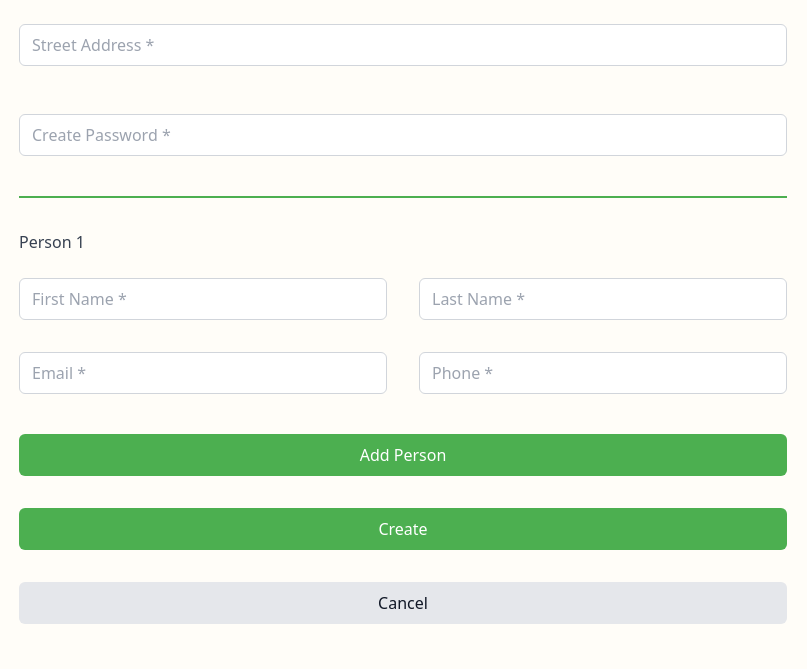
Scenario: SignUpForm › shows validation for invalid email
In the field named "Street Address*": [403, 45] box [19,24,787,66], type "123 Main St"
In the password field named "Create Password*": [403, 135] box [19,114,787,156], type "abc123"
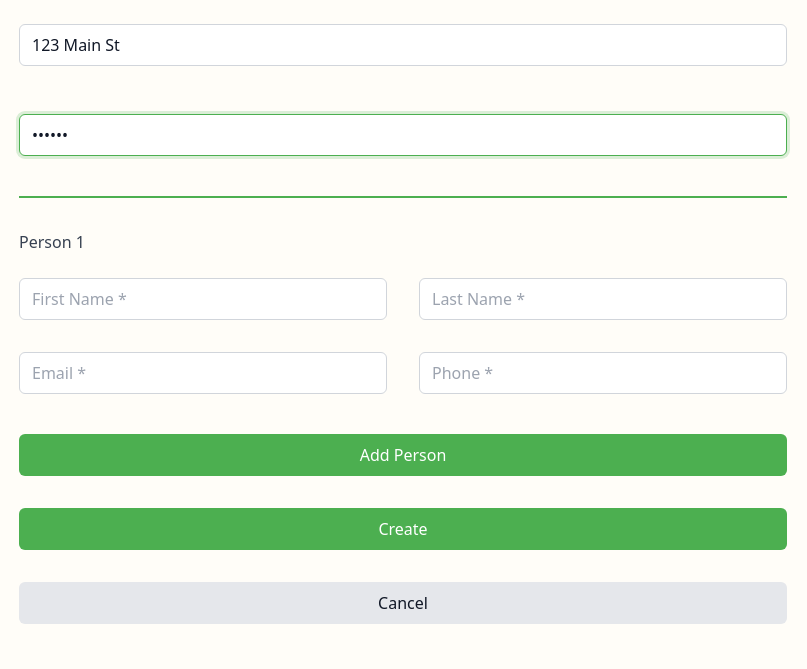
In the field named "First Name*": [203, 299] box [19,278,387,320], type "Tony"
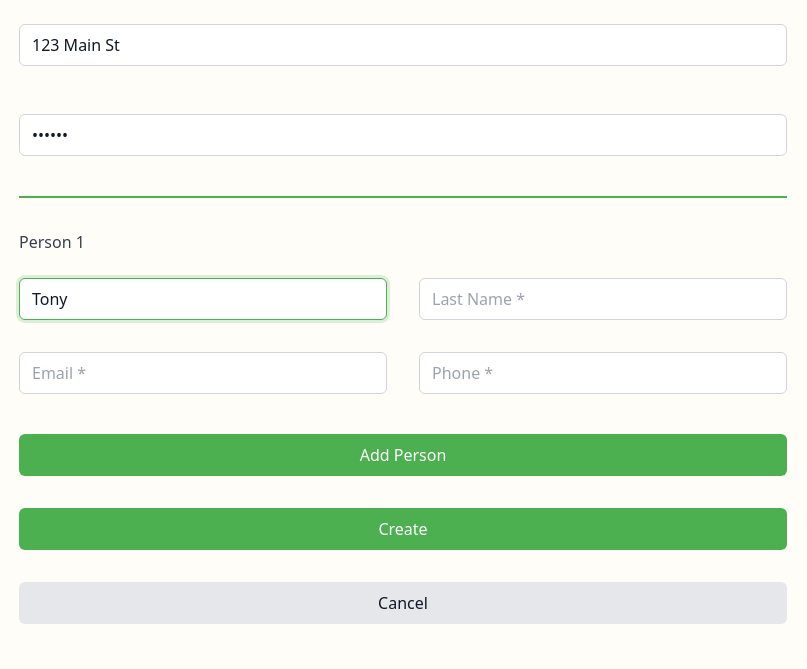
In the field named "Last Name*": [603, 299] box [419,278,787,320], type "Stark"
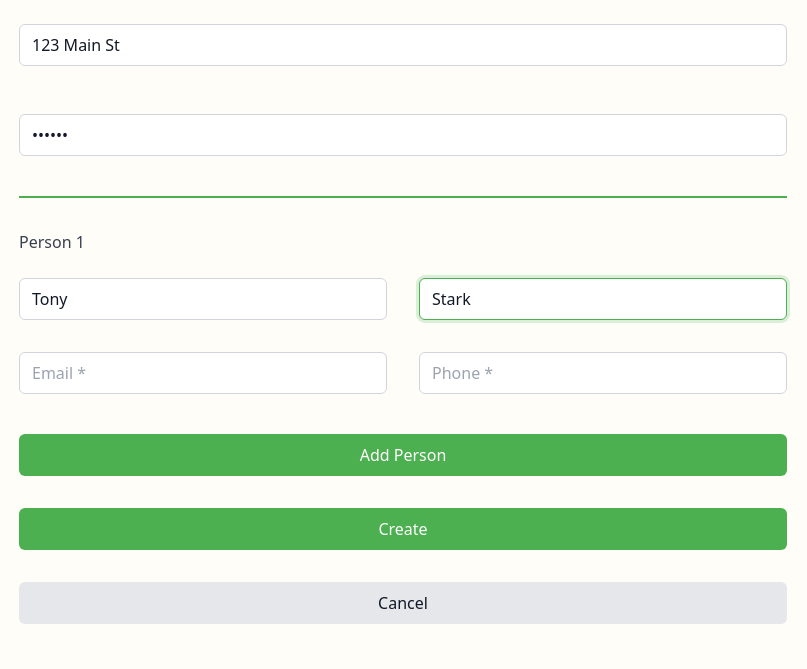
In the field named "Email*": [203, 373] box [19,352,387,394], type "not-an-email"
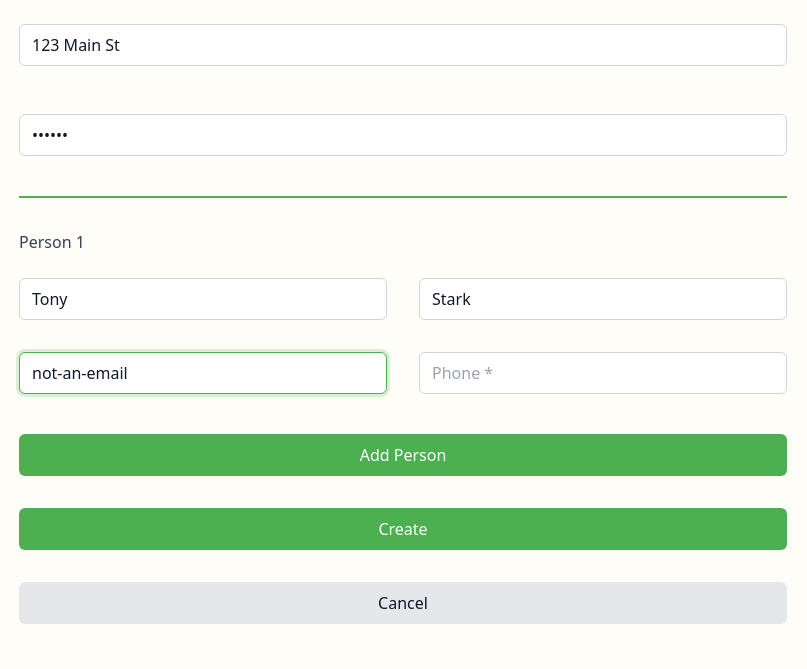
In the field named "Phone*": [603, 373] box [419,352,787,394], type "5551234567"
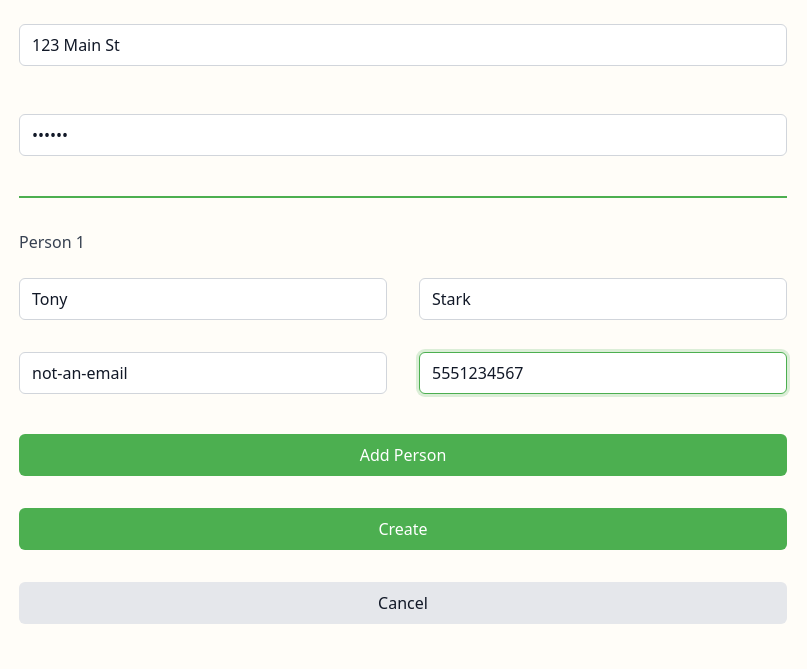
Click the button "Create": [403, 529] box [19,508,787,550]
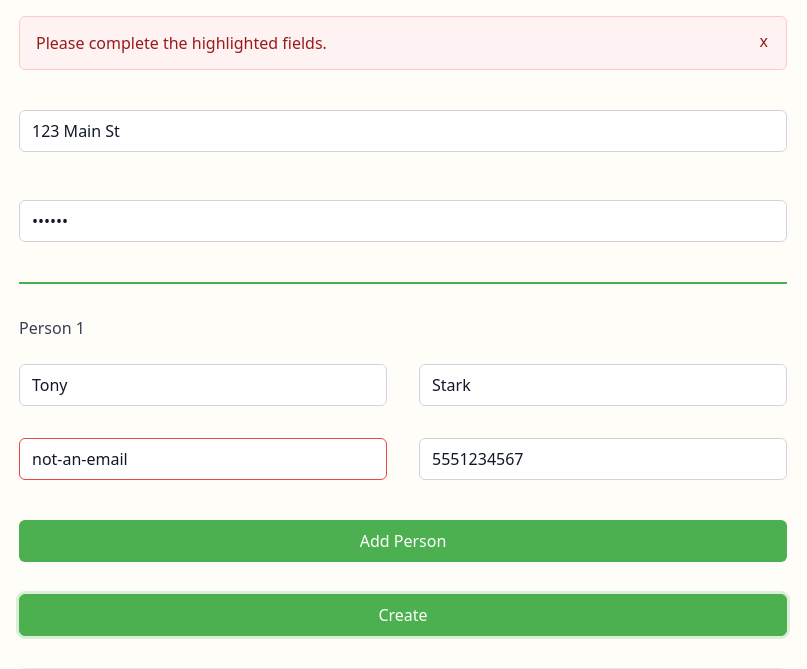
Now the text "Please complete the highlighted fields." is shown, box [36,31,327,55]
